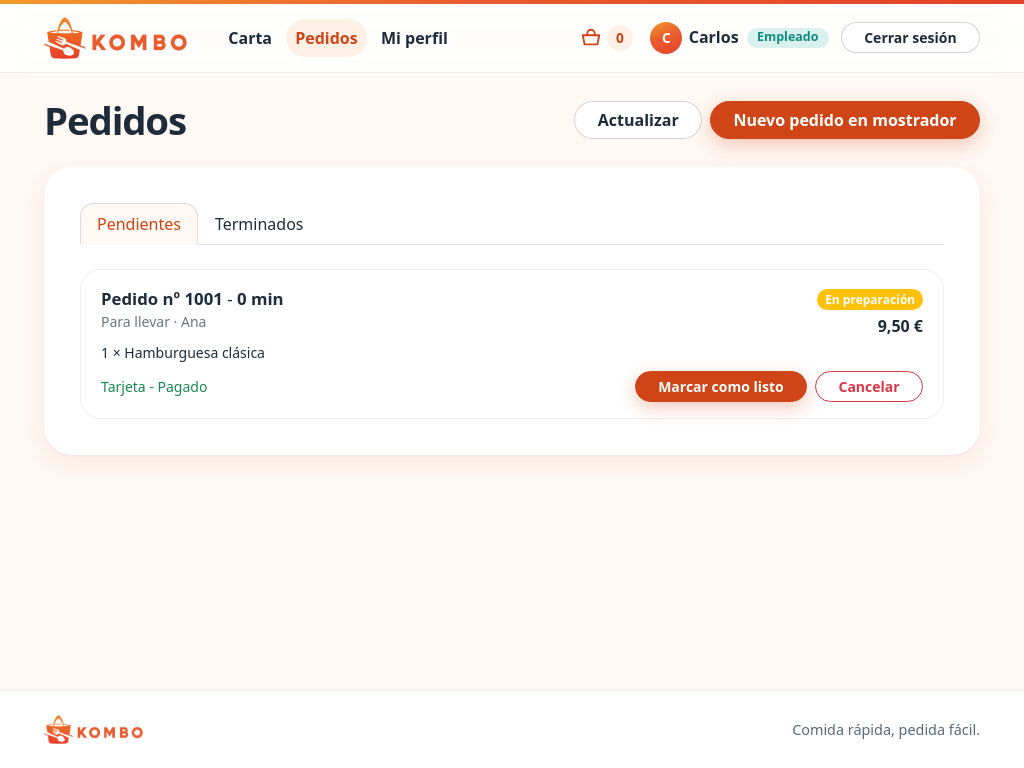
Scenario: OrdersDashboardPage › explains when an order changed meanwhile or cannot be saved
Click the button "Marcar como listo" at {"x": 721, "y": 386}, box [635,371,807,402]
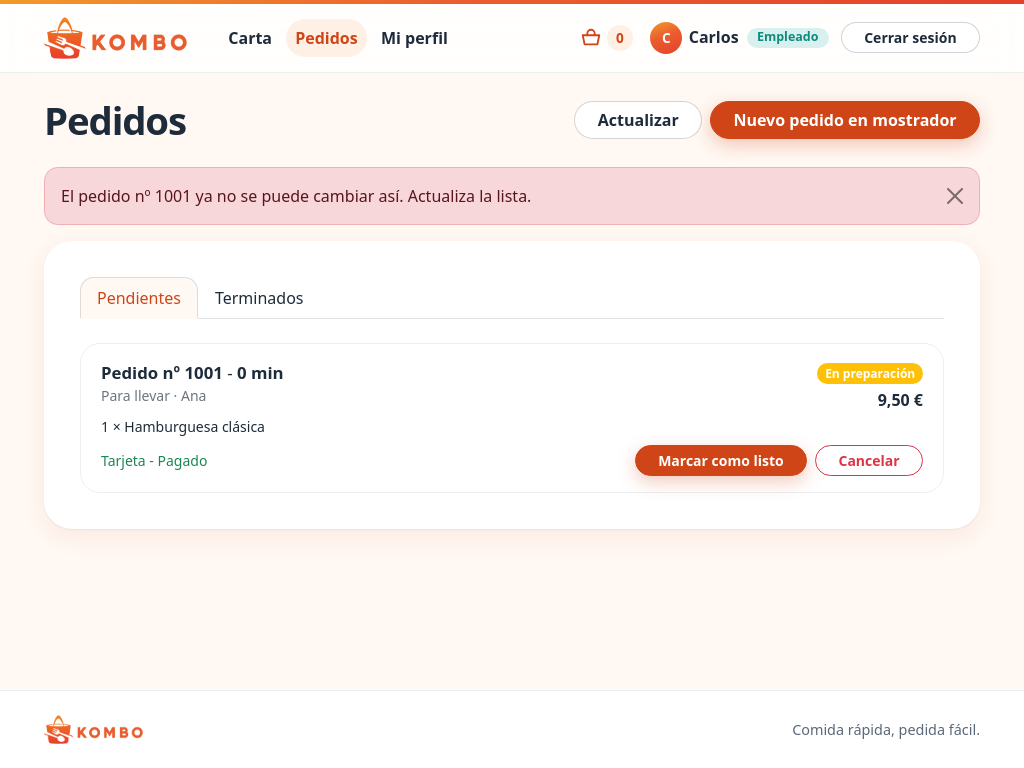
Expected: the text "El pedido nº 1001 ya no se puede cambiar así. Actualiza la lista." is shown, [44,167,980,225]
Click the button "Marcar como listo" at {"x": 721, "y": 460}, box [635,445,807,476]
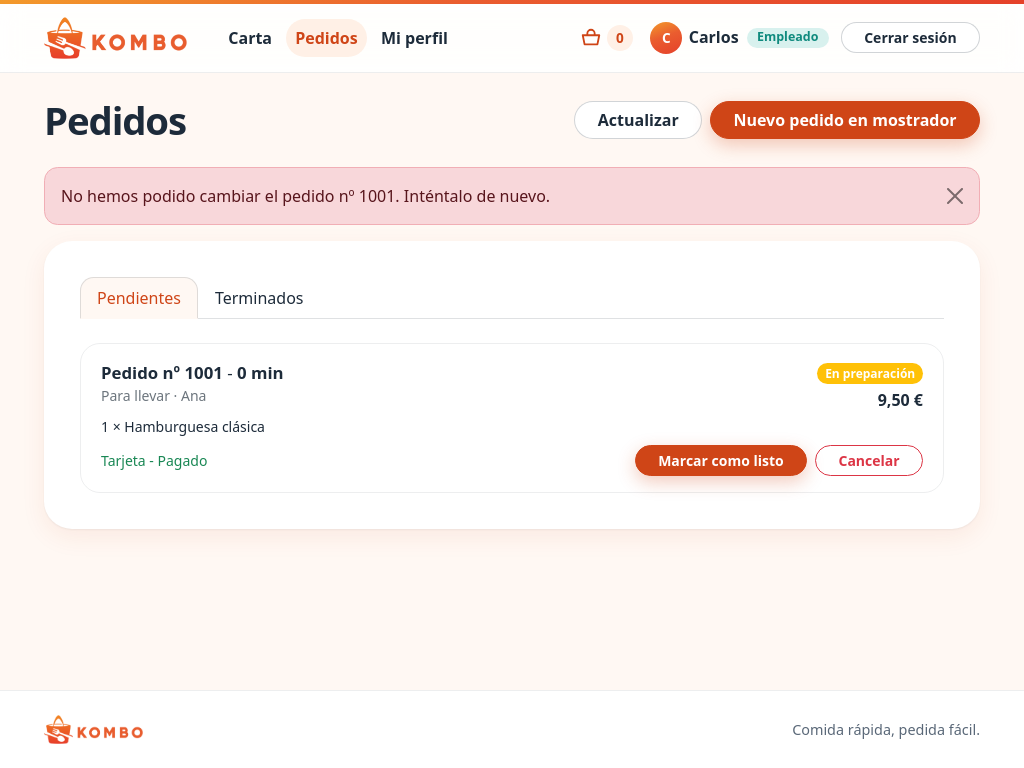
Expected: the text "No hemos podido cambiar el pedido nº 1001. Inténtalo de nuevo." is shown, [44,167,980,225]
